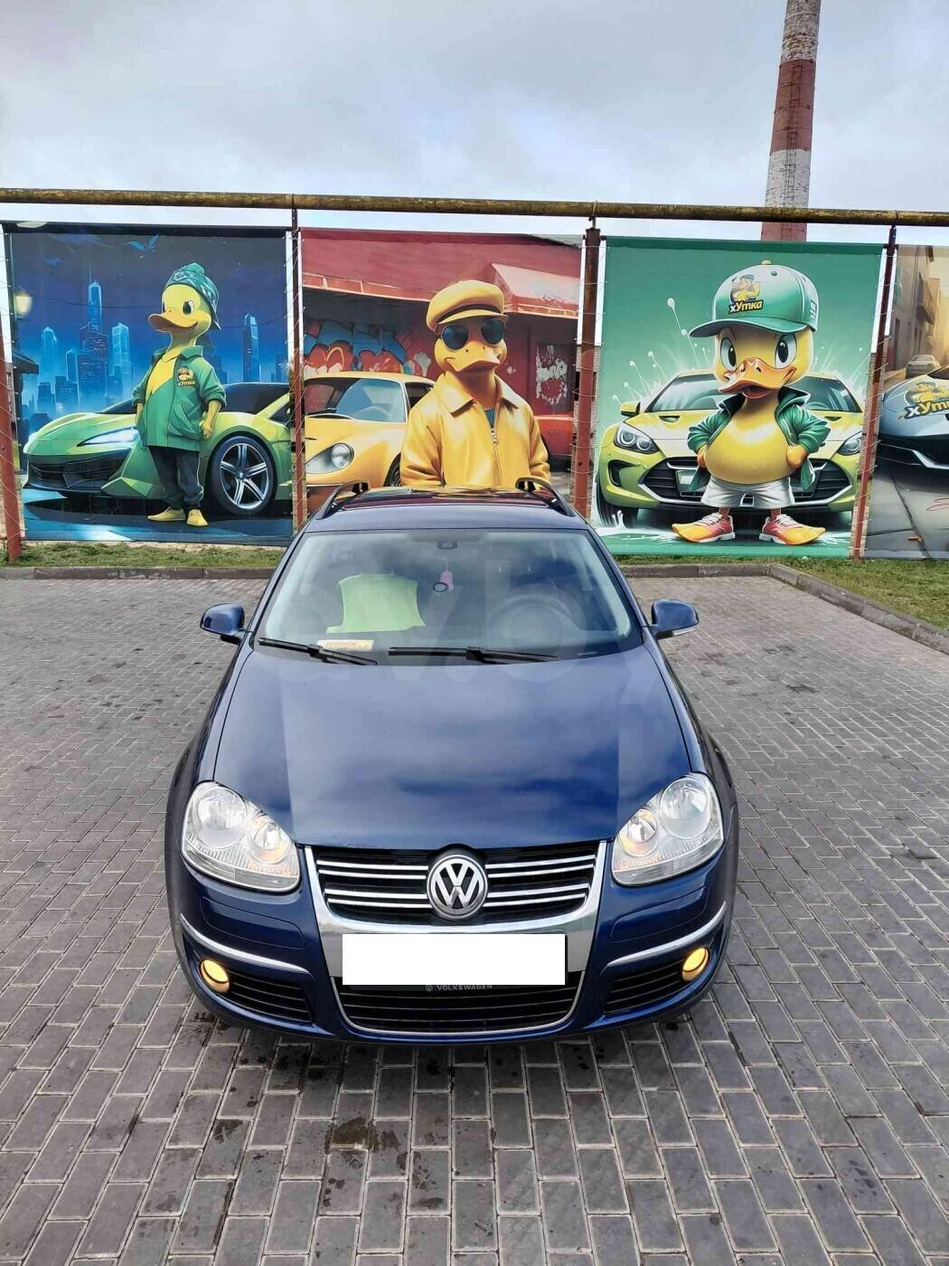Golf_2003-2009: (163, 489, 744, 1049)
